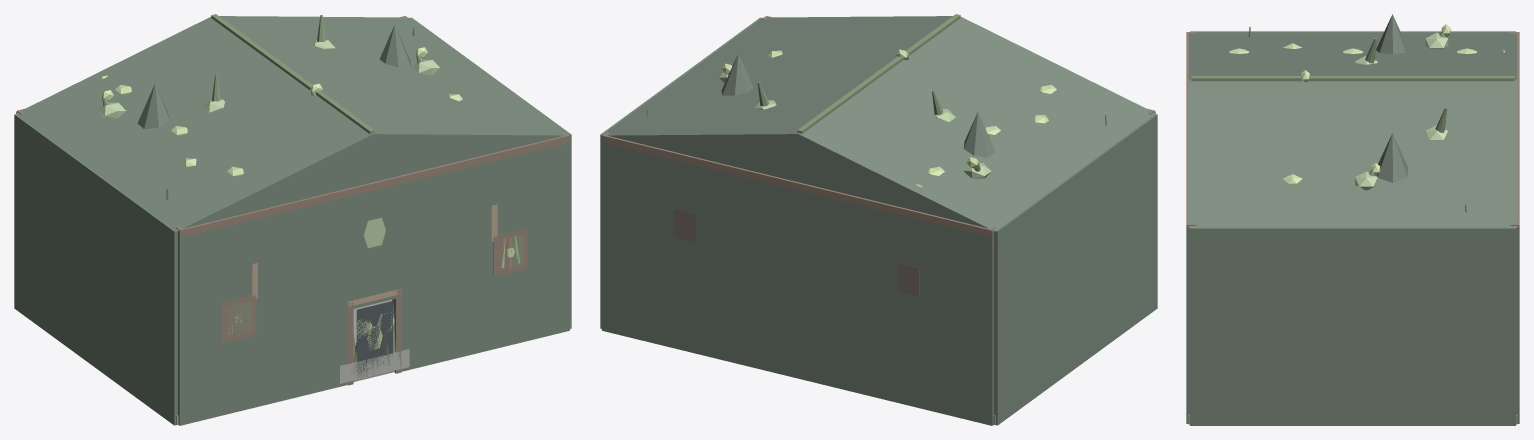
File: burgomaster_manor_infested.glb
3 views of the same model, side by side, from view 1: azimuth 30°, elevation 25°; view 2: azimuth 150°, elevation 25°; view 3: azimuth 270°, elevation 25° (orthographic).
Parts seen in each view (by area): view 1: burgomaster_manor_mat_01, burgomaster_manor_mat_02, burgomaster_manor_mat_06, burgomaster_manor_mat_04, burgomaster_manor_mat_08, burgomaster_manor_mat_05, burgomaster_manor_mat_10, burgomaster_manor_mat_03; view 2: burgomaster_manor_mat_01, burgomaster_manor_mat_02, burgomaster_manor_mat_06, burgomaster_manor_mat_09, burgomaster_manor_mat_05, burgomaster_manor_mat_08; view 3: burgomaster_manor_mat_01, burgomaster_manor_mat_06, burgomaster_manor_mat_02, burgomaster_manor_mat_08, burgomaster_manor_mat_05.
Boxes of the visible parts, bbox=[...] form: burgomaster_manor_mat_01: bbox=[14, 16, 571, 425]; burgomaster_manor_mat_02: bbox=[16, 16, 569, 385]; burgomaster_manor_mat_06: bbox=[102, 14, 523, 372]; burgomaster_manor_mat_04: bbox=[356, 301, 392, 378]; burgomaster_manor_mat_08: bbox=[98, 40, 520, 333]; burgomaster_manor_mat_05: bbox=[101, 47, 514, 350]; burgomaster_manor_mat_10: bbox=[340, 349, 409, 383]; burgomaster_manor_mat_03: bbox=[252, 204, 497, 306]; burgomaster_manor_mat_01: bbox=[600, 16, 1157, 425]; burgomaster_manor_mat_02: bbox=[602, 16, 1155, 413]; burgomaster_manor_mat_06: bbox=[646, 14, 1106, 171]; burgomaster_manor_mat_09: bbox=[674, 208, 919, 296]; burgomaster_manor_mat_05: bbox=[721, 49, 1056, 187]; burgomaster_manor_mat_08: bbox=[718, 72, 991, 178]; burgomaster_manor_mat_01: bbox=[1186, 14, 1519, 425]; burgomaster_manor_mat_06: bbox=[1191, 26, 1514, 212]; burgomaster_manor_mat_02: bbox=[1186, 32, 1519, 226]; burgomaster_manor_mat_08: bbox=[1355, 32, 1448, 190]; burgomaster_manor_mat_05: bbox=[1228, 24, 1504, 183].
Bounding box in the file's own units: 6.97 × 4.23 × 4.98.
